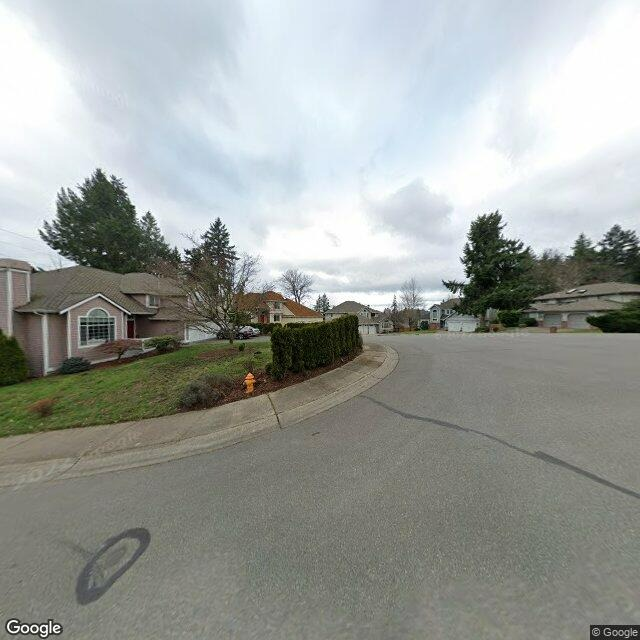hydrant: (237, 371, 258, 396)
